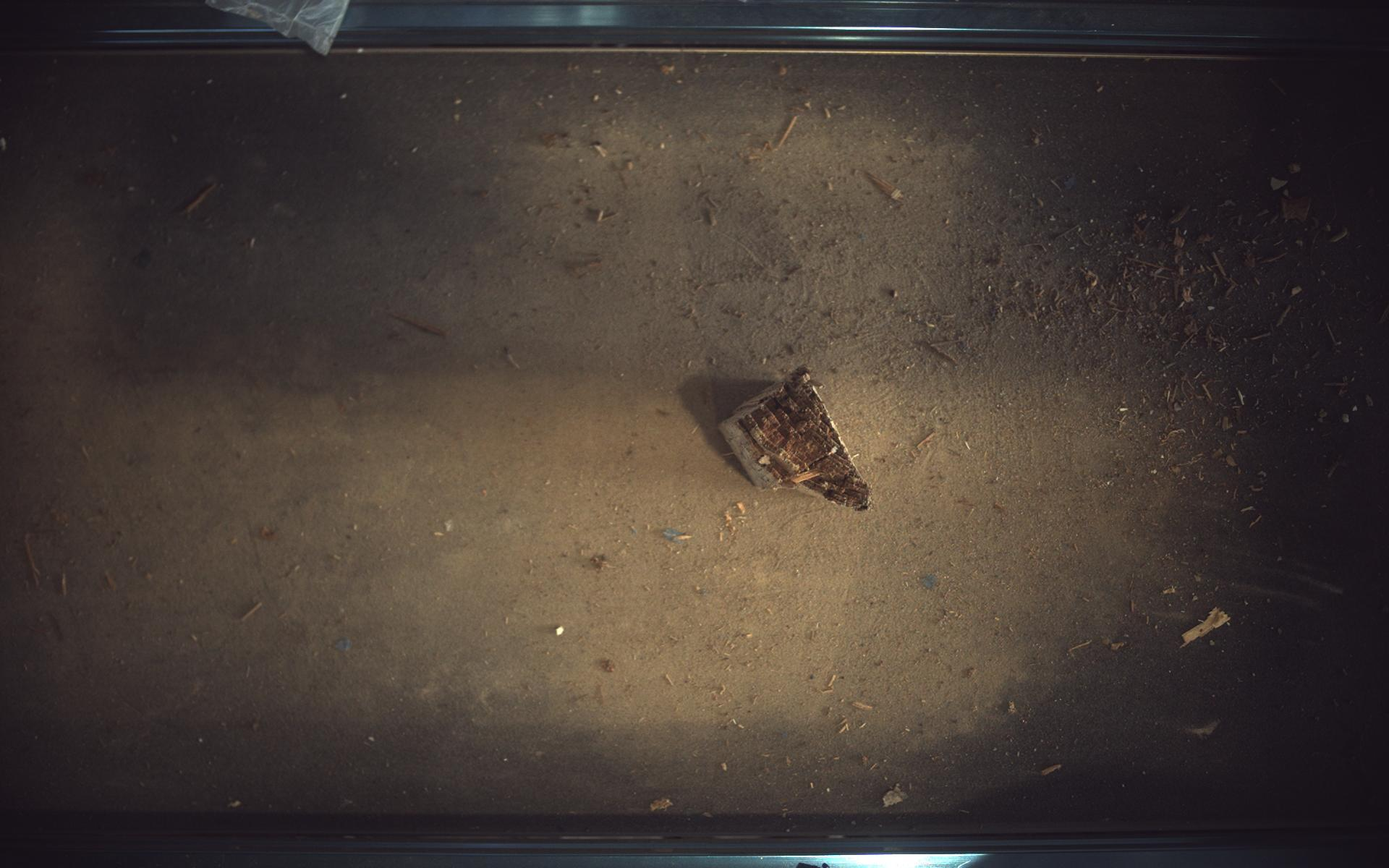wood: (721, 366, 872, 510)
